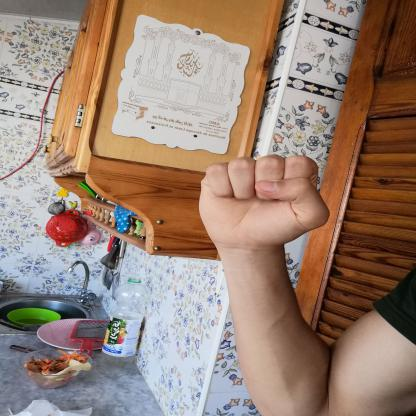SAD: (173, 141, 342, 263)
